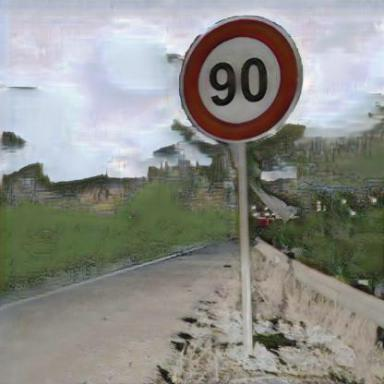Speed_limit_90: (185, 15, 299, 142)
